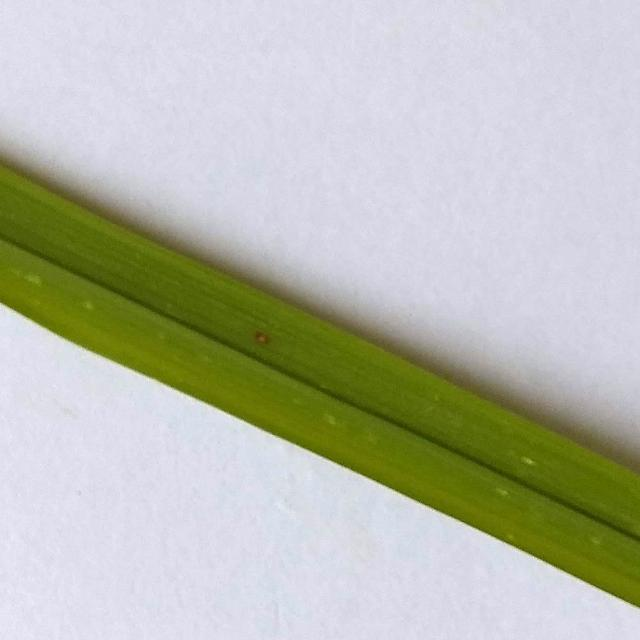Blast: (253, 328, 273, 346)
